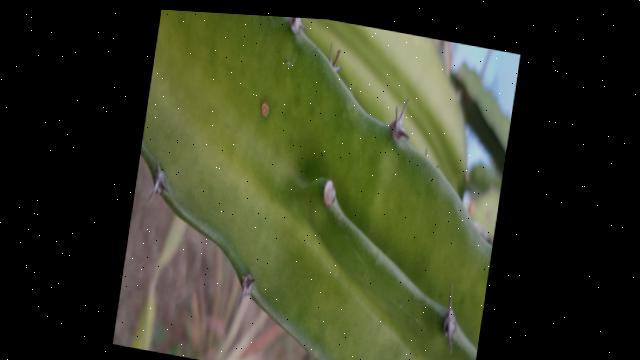stemcanker: (253, 95, 277, 126)
